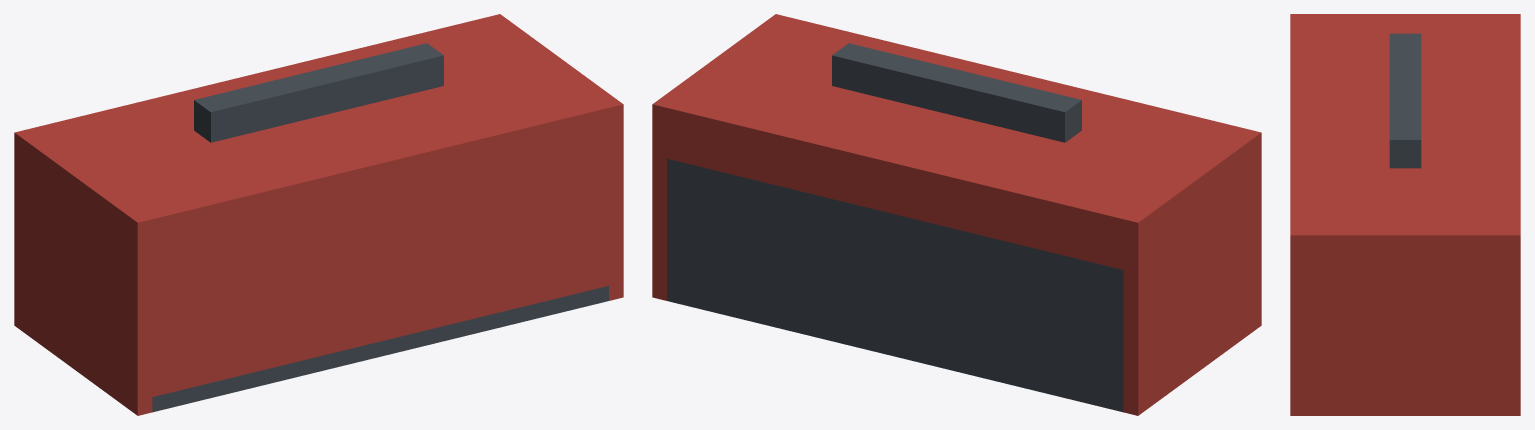
The model's file is GI_Toolbox_01.glb.
3 views of the same model, side by side, from view 1: azimuth 30°, elevation 25°; view 2: azimuth 150°, elevation 25°; view 3: azimuth 270°, elevation 25° (orthographic). The views are drawn at different scales.
Visible parts, largest first — view 1: Lid, GI_Toolbox_01; view 2: Lid, GI_Toolbox_01; view 3: Lid, GI_Toolbox_01.
Part boxes in pixels (x1,y1,x2,y2): Lid: (14,14,623,273); GI_Toolbox_01: (14,155,623,415); Lid: (652,14,1261,273); GI_Toolbox_01: (652,155,1261,415); Lid: (1290,14,1520,282); GI_Toolbox_01: (1290,283,1520,415).
Size of the model in its own units: 0.5 by 0.23 by 0.22.
Materials: 1 (1 with a texture image).
